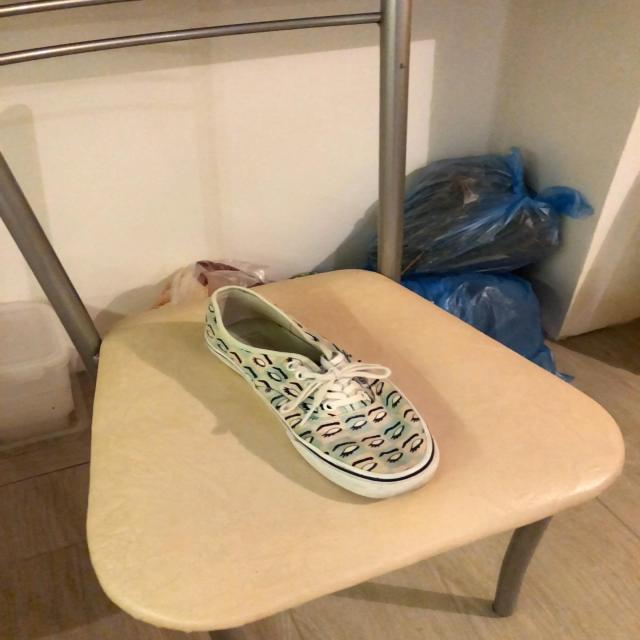shoe: (202, 287, 439, 502)
